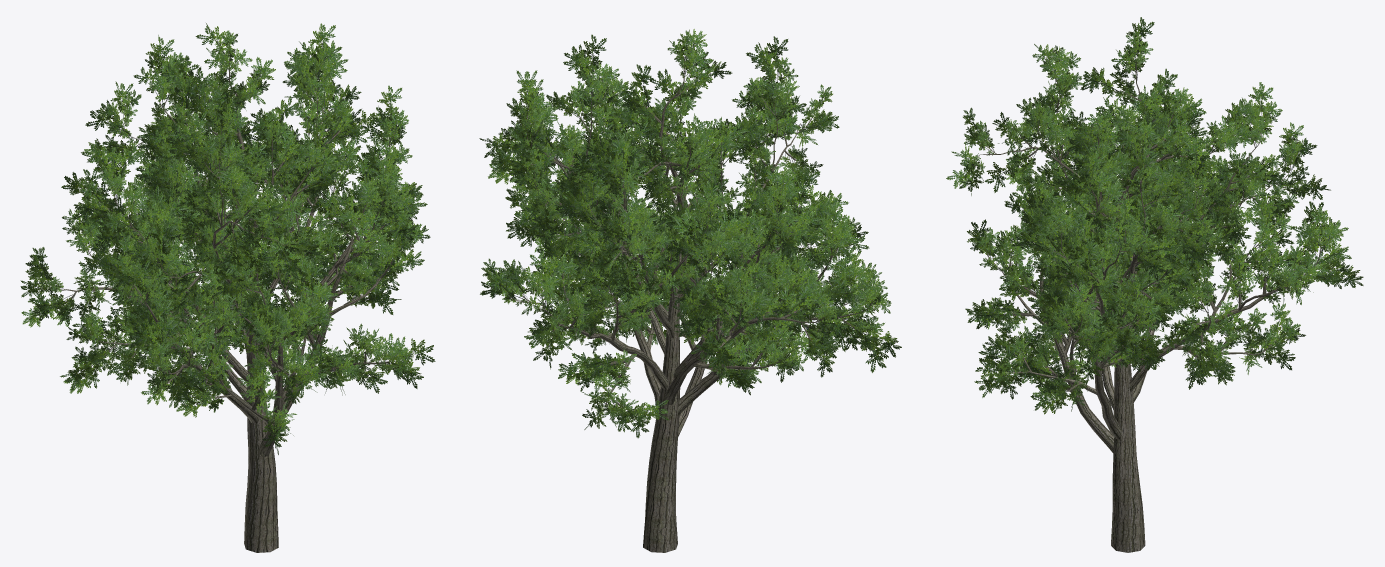
The model's file is tree_1.gltf.
3 views of the same model, side by side, from view 1: azimuth 30°, elevation 25°; view 2: azimuth 150°, elevation 25°; view 3: azimuth 270°, elevation 25° (orthographic). The views are drawn at different scales.
Visible parts, largest first — view 1: Tree; view 2: Tree; view 3: Tree.
Boxes of the visible parts, x1,y1,x2,y2 form: Tree: (20, 23, 435, 552); Tree: (479, 29, 901, 552); Tree: (946, 17, 1363, 552).
Size of the model in its own units: 75.09 by 99.72 by 75.73.
Materials: 2 (2 with a texture image).
